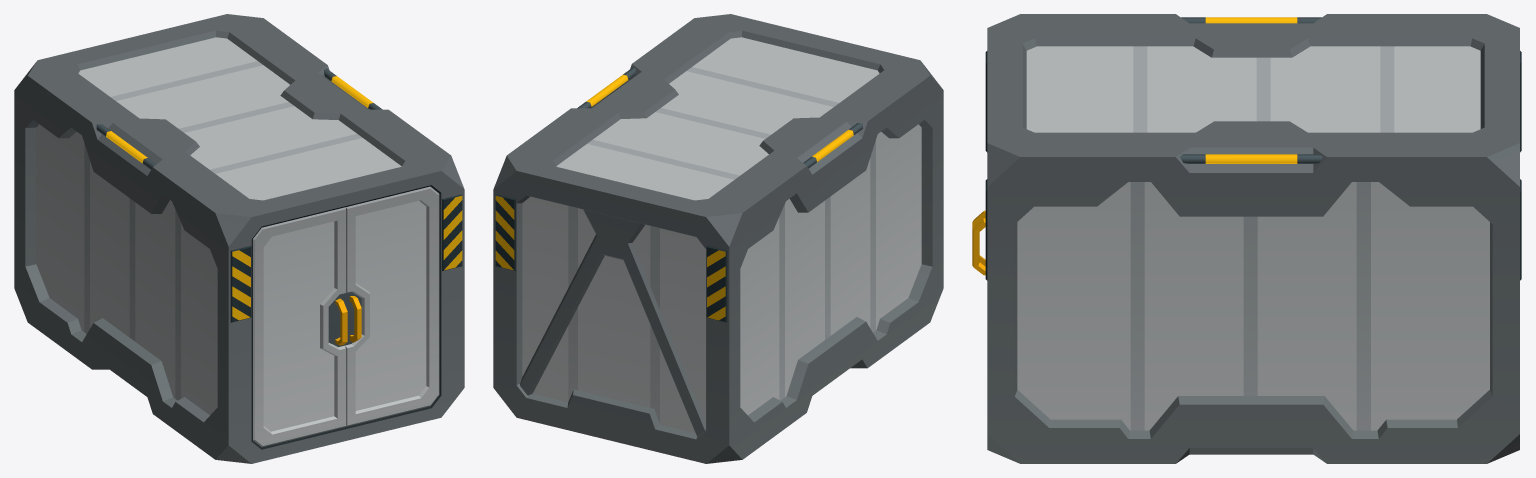
The model's file is Container_type_B_003.glb.
3 renders of one model, left to right at view 1: azimuth 30°, elevation 25°; view 2: azimuth 150°, elevation 25°; view 3: azimuth 270°, elevation 25°, orthographic. The views are drawn at different scales.
Parts seen in each view (by area): view 1: Container_type_B_003, Container_type_B_door_002, Container_type_B_door_003; view 2: Container_type_B_003; view 3: Container_type_B_003.
Boxes of the visible parts, box(x1,y1,x2,y2) form: Container_type_B_003: box(14, 14, 464, 463); Container_type_B_door_002: box(345, 186, 439, 426); Container_type_B_door_003: box(253, 207, 347, 447); Container_type_B_003: box(493, 14, 943, 463); Container_type_B_003: box(985, 14, 1521, 463).
Bounding box in the file's own units: 2.4 × 2.4 × 3.89.
2 materials, 2 textured.
